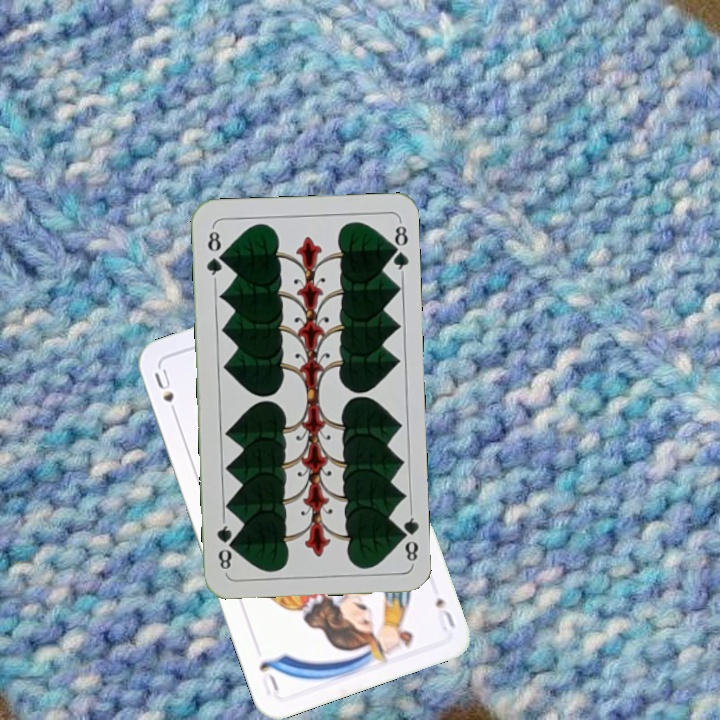G8: (394, 507, 421, 564), (202, 224, 226, 283)
SU: (150, 364, 181, 422), (431, 593, 458, 634)
